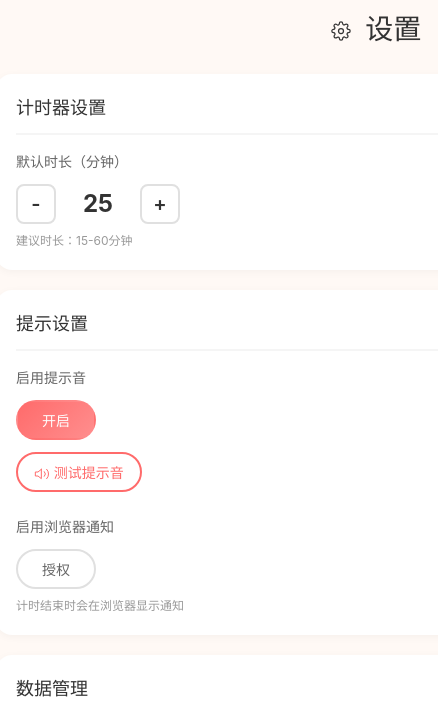
Scenario: Settings Component › 时长调整 › 应该能增加时长
Click the button "+" at (160, 204), box x1=140 y1=184 x2=180 y2=224
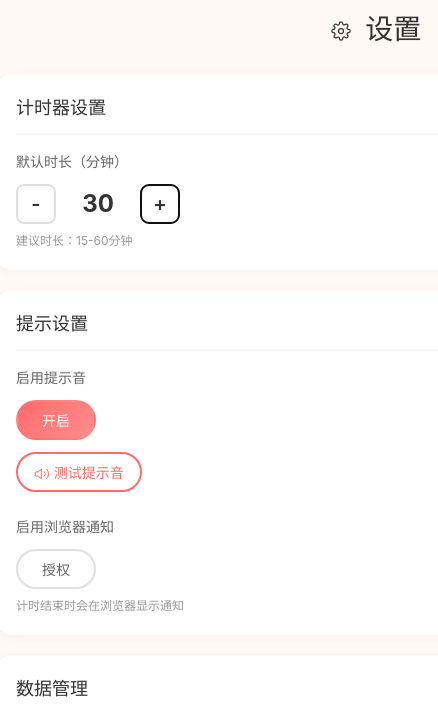
Check: the text "30" is shown, box x1=82 y1=189 x2=114 y2=218
